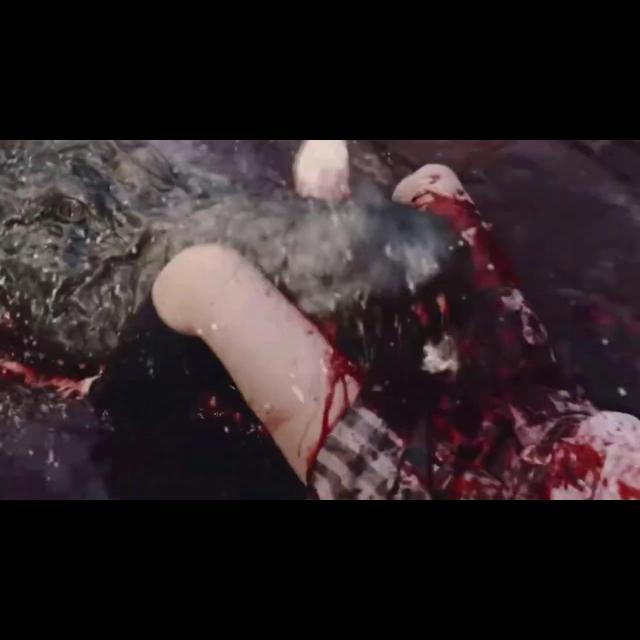blood: (306, 166, 598, 499), (0, 320, 110, 421)
